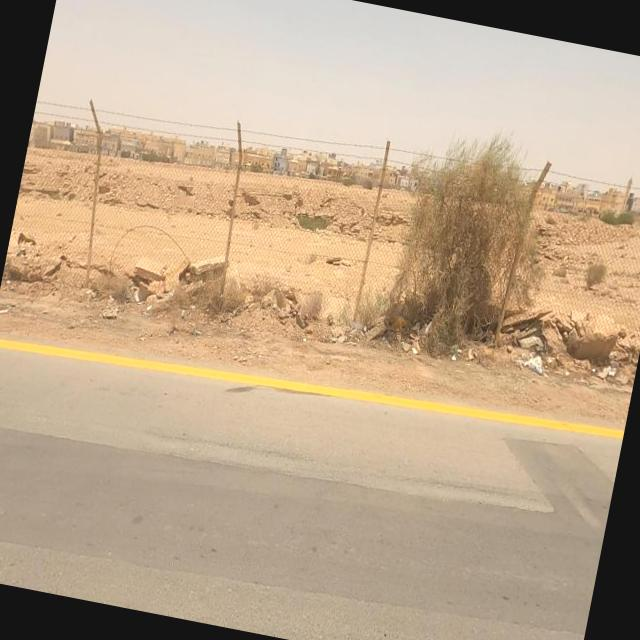debris: (370, 278, 476, 406), (480, 317, 588, 421), (572, 328, 638, 414)
